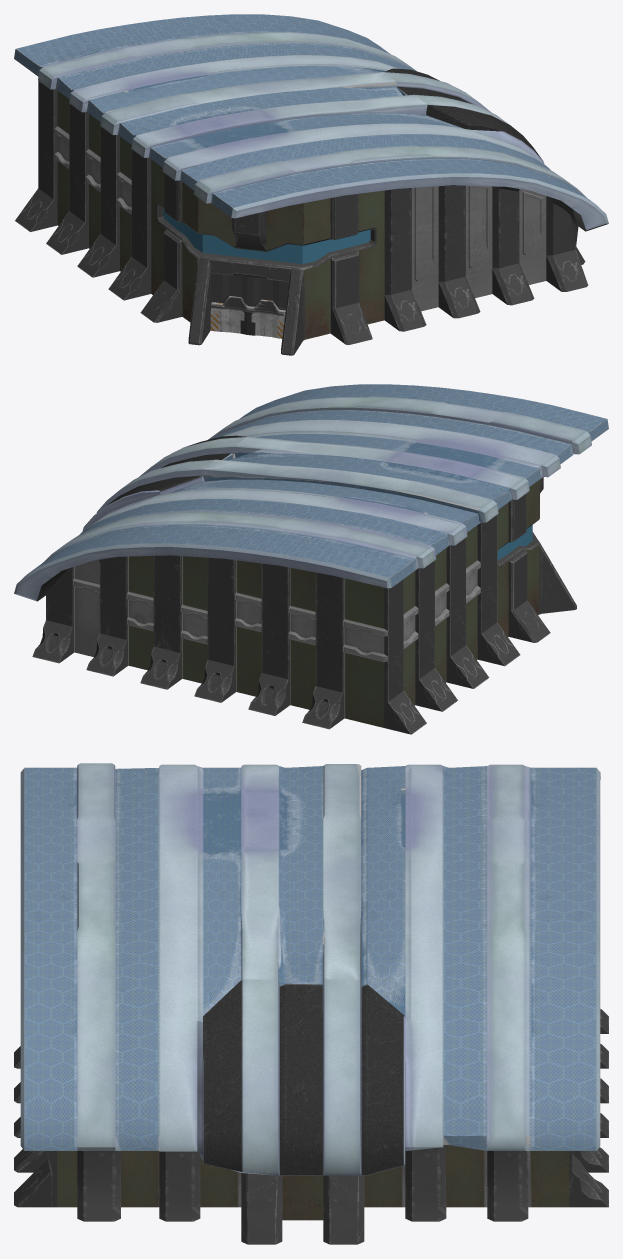
Rendered from barrack_light_inflantry_NC.fbx.
3 renders of one model, top to bottom at view 1: azimuth 30°, elevation 25°; view 2: azimuth 150°, elevation 25°; view 3: azimuth 270°, elevation 25°, orthographic. The views are drawn at different scales.
Parts seen in each view (by area): view 1: barrack_light_inflantry_NC; view 2: barrack_light_inflantry_NC; view 3: barrack_light_inflantry_NC.
Boxes of the visible parts, <box> form: barrack_light_inflantry_NC: <box>14,14,608,355</box>; barrack_light_inflantry_NC: <box>14,384,608,734</box>; barrack_light_inflantry_NC: <box>14,763,608,1244</box>.
Size of the model in its own units: 378 by 157 by 368.
